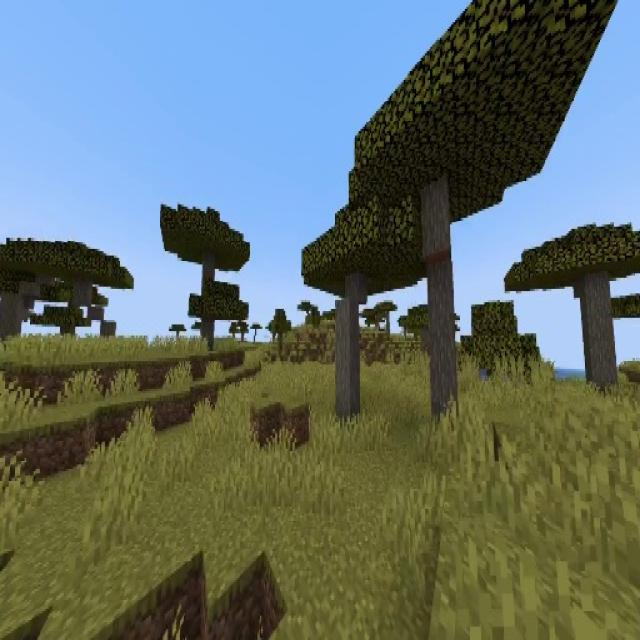acacia: (347, 0, 594, 417), (301, 206, 415, 413), (507, 224, 640, 392), (158, 203, 250, 348), (3, 236, 135, 337)
acacia_log: (423, 179, 455, 420), (581, 277, 617, 402), (334, 299, 357, 415), (0, 294, 22, 342), (72, 276, 91, 305)
oak: (268, 308, 291, 352)
